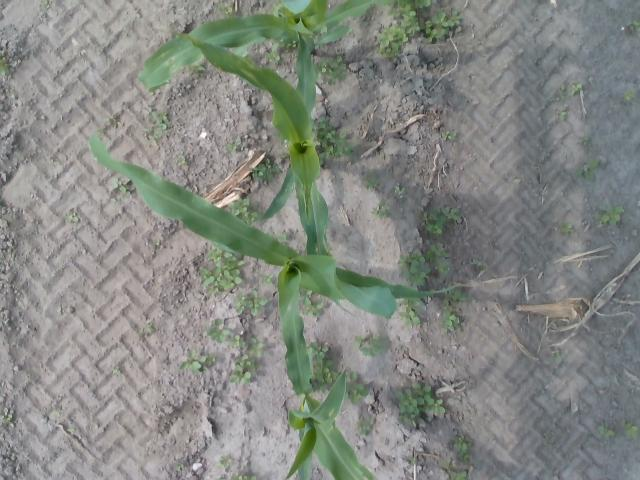Maize: (88, 129, 473, 396), (154, 27, 332, 256), (138, 0, 378, 93), (284, 289, 378, 480)
Weeds: (400, 383, 446, 420), (384, 0, 432, 35), (424, 10, 462, 38), (308, 344, 334, 384), (376, 23, 407, 55), (406, 256, 431, 286), (318, 58, 346, 84), (250, 160, 279, 184), (230, 354, 253, 383), (356, 331, 382, 355), (576, 158, 602, 182), (441, 306, 462, 334), (241, 292, 265, 316), (303, 297, 324, 320), (217, 269, 240, 290), (177, 354, 207, 370), (207, 250, 236, 266), (422, 214, 443, 236), (400, 307, 420, 328), (210, 320, 229, 342), (150, 111, 169, 132), (602, 206, 624, 224), (136, 320, 154, 340), (441, 206, 463, 222), (349, 374, 364, 396), (264, 46, 282, 64), (426, 241, 445, 258), (336, 133, 350, 155), (446, 466, 468, 480), (200, 266, 214, 287), (230, 199, 250, 213), (249, 336, 262, 356), (109, 178, 127, 192), (436, 262, 450, 279), (374, 204, 390, 218), (230, 332, 244, 348), (624, 422, 638, 438), (458, 436, 472, 451), (358, 419, 372, 434), (36, 1, 50, 15), (366, 174, 379, 189), (394, 183, 406, 199), (597, 424, 613, 436), (626, 20, 639, 34), (244, 210, 259, 222), (558, 84, 568, 102), (225, 138, 242, 148), (221, 454, 233, 468), (556, 104, 567, 119), (571, 84, 584, 96), (624, 89, 636, 102), (451, 291, 466, 301), (0, 58, 9, 74), (262, 272, 274, 283), (66, 213, 79, 223), (554, 350, 562, 365), (278, 232, 290, 242), (560, 224, 573, 233), (236, 475, 258, 480), (578, 136, 590, 145), (110, 365, 122, 374), (442, 129, 452, 139), (179, 155, 187, 167), (543, 430, 554, 437)
